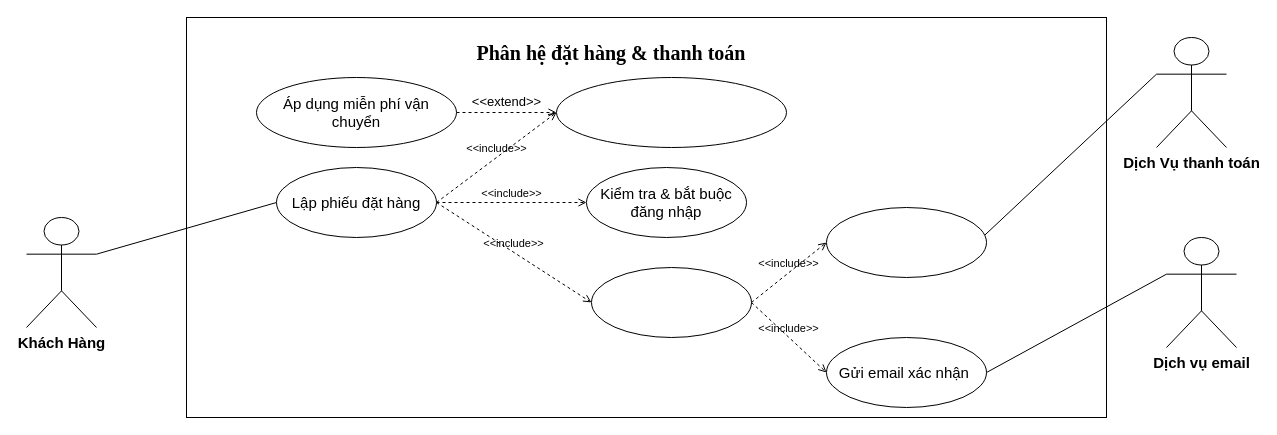
Image size: 1277x435. Some labels were removed from this diagram. Each missing label, with the centre of its shape:
"Kiểm tra chuẩn thẻ" goes at (906,242).
"Thanh toán qua thẻ tín dụng" goes at (671,302).
"Tính phí vận chuyển theo khu vực" goes at (671,112).
